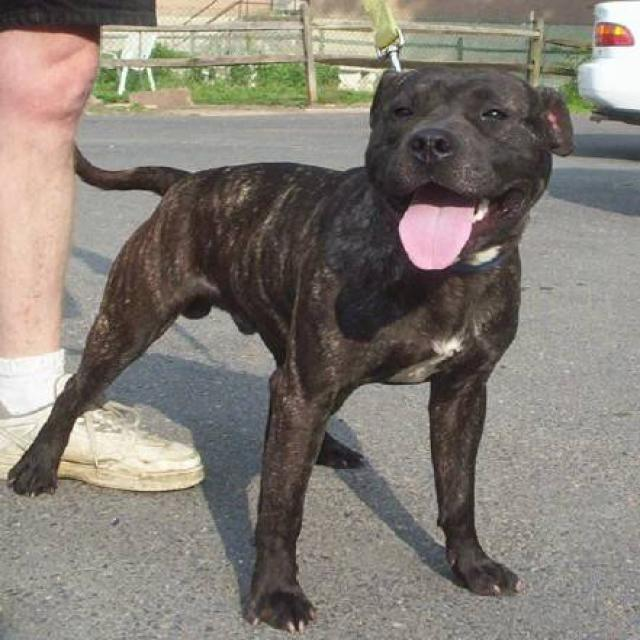dog: (2, 63, 574, 634)
